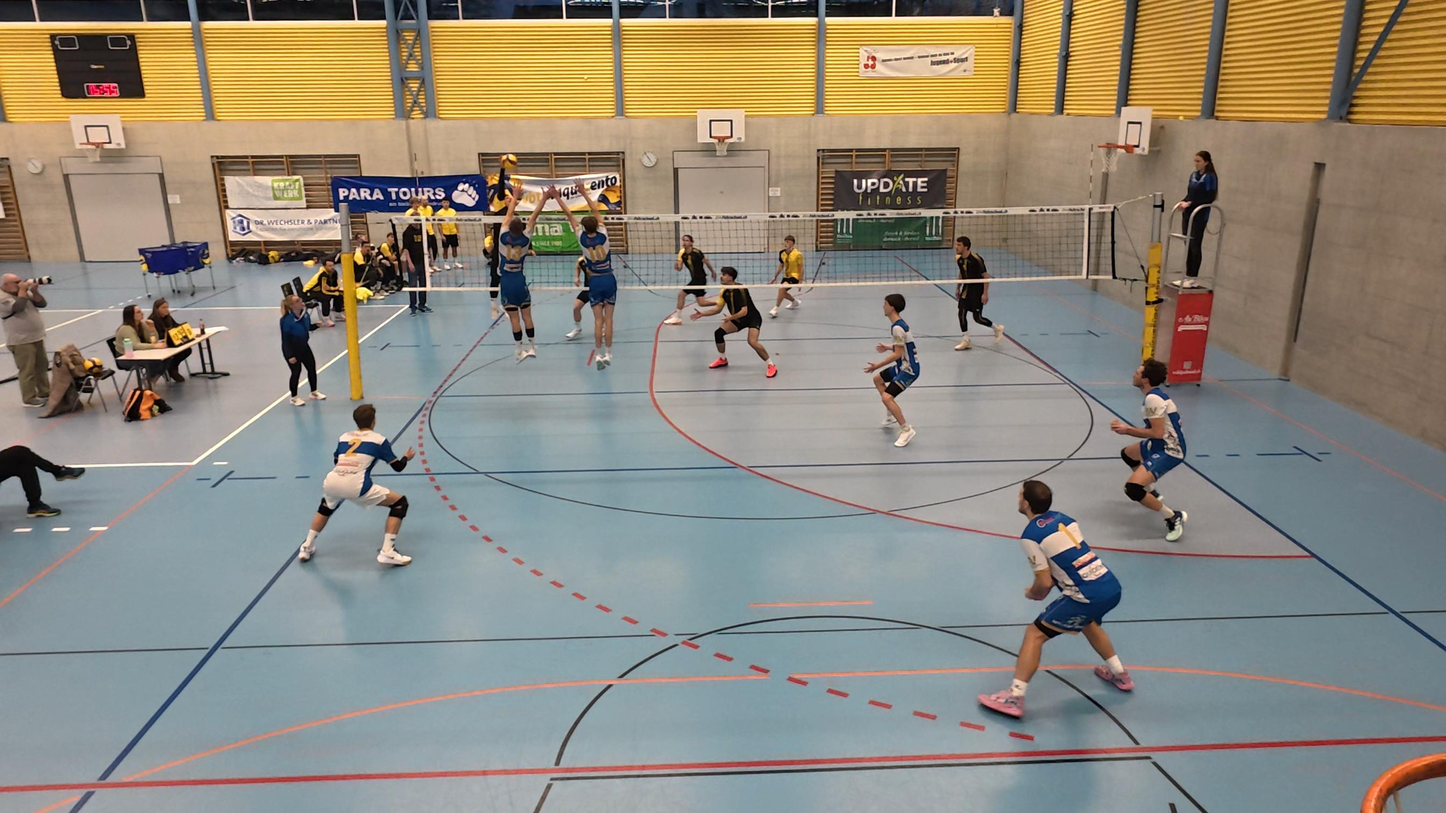Attack: (476, 147, 527, 322)
Block: (496, 177, 554, 367), (559, 187, 613, 341)
Player: (978, 480, 1135, 718), (300, 403, 425, 566), (1105, 362, 1187, 540), (705, 265, 780, 377), (868, 294, 920, 447), (661, 233, 717, 327), (954, 240, 995, 350), (566, 236, 601, 338), (775, 235, 806, 314)
ball: (497, 151, 520, 173)
